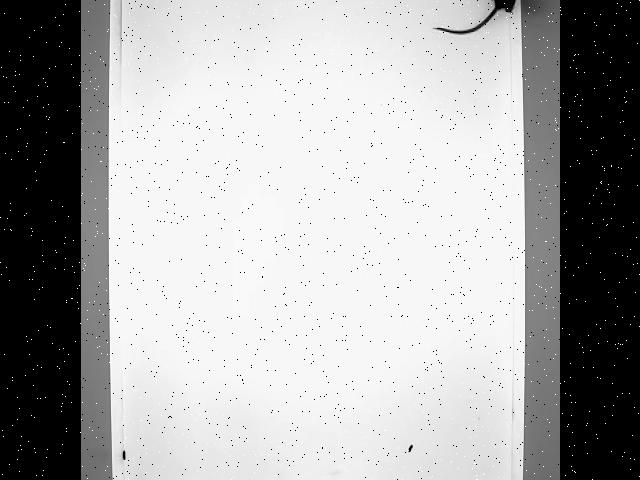Tikus: (430, 0, 530, 41)
